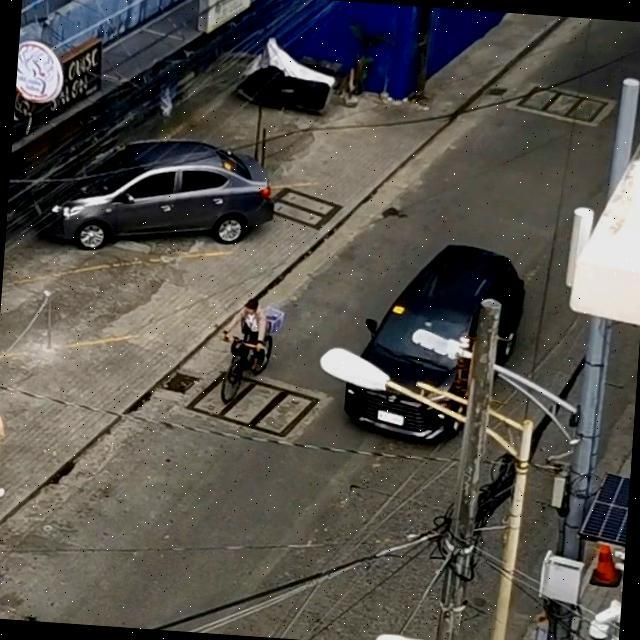Bike: (219, 323, 270, 398)
